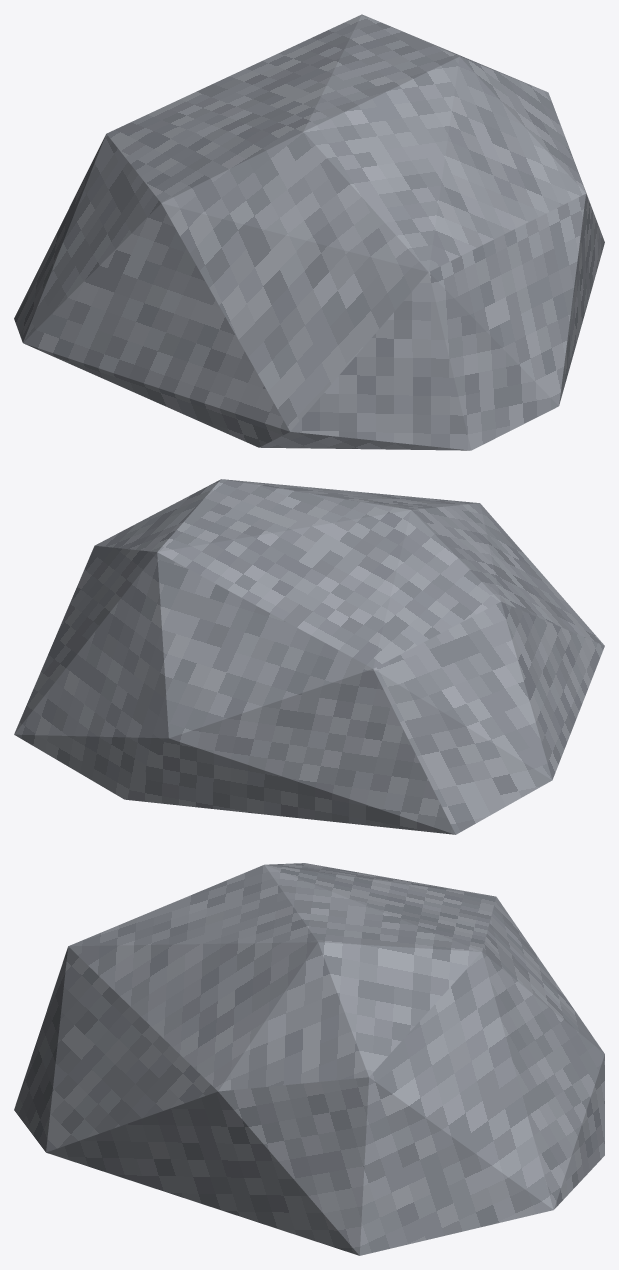
The model's file is Stone_2.fbx.
The picture shows the model from 3 angles, top to bottom: view 1: azimuth 30°, elevation 25°; view 2: azimuth 150°, elevation 25°; view 3: azimuth 270°, elevation 25°; orthographic projection. The views are drawn at different scales.
Visible parts, largest first — view 1: Stone.001; view 2: Stone.001; view 3: Stone.001.
Boxes of the visible parts, x1,y1,x2,y2 form: Stone.001: (14, 14, 604, 450); Stone.001: (14, 479, 604, 834); Stone.001: (14, 863, 604, 1255).
Bounding box in the file's own units: 1 × 0.9298 × 0.4104.
1 material, 1 textured.
